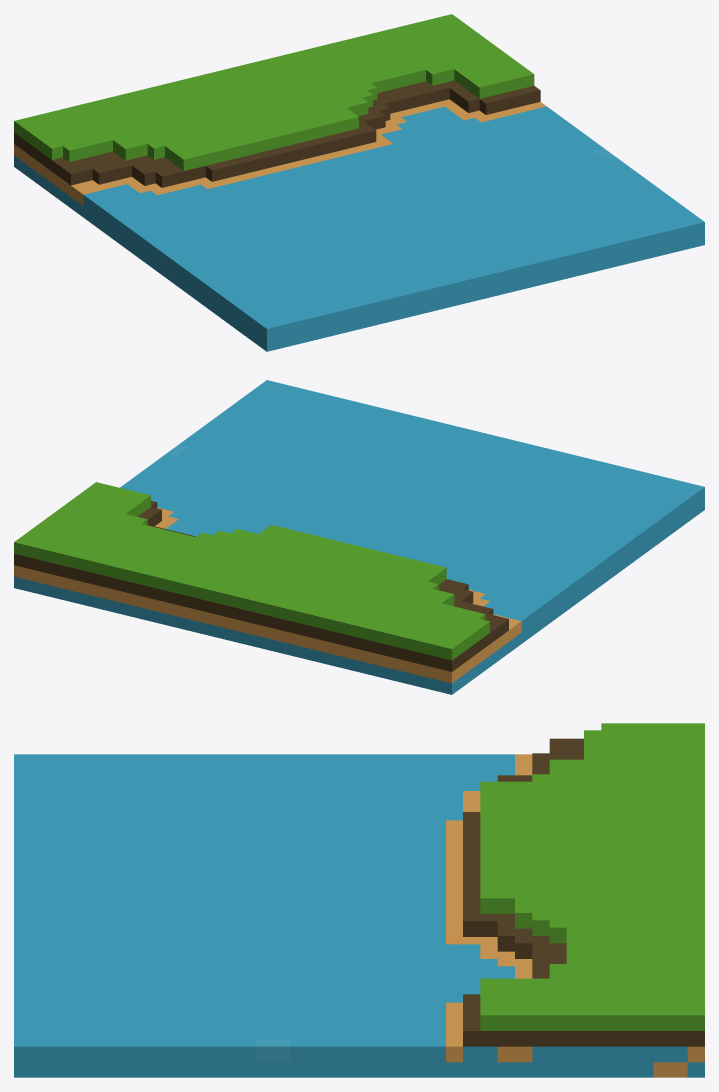
File: river3-6-River.obj
3 views of the same model, one above another, from view 1: azimuth 30°, elevation 25°; view 2: azimuth 150°, elevation 25°; view 3: azimuth 270°, elevation 25° (orthographic). The views are drawn at different scales.
Visible parts, largest first — view 1: River; view 2: River; view 3: River.
Boxes of the visible parts, bbox=[...] form: River: bbox=[14, 14, 704, 351]; River: bbox=[14, 380, 704, 694]; River: bbox=[14, 723, 704, 1077].
Bounding box in the file's own units: 4 × 0.4 × 4.
Materials: 1 (1 with a texture image).
